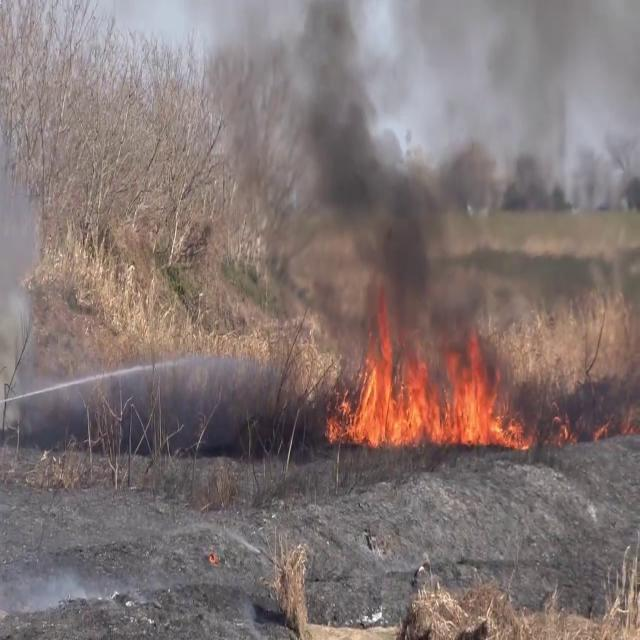Fire: (331, 314, 526, 452)
Smoke: (204, 0, 538, 356), (0, 82, 47, 426)
